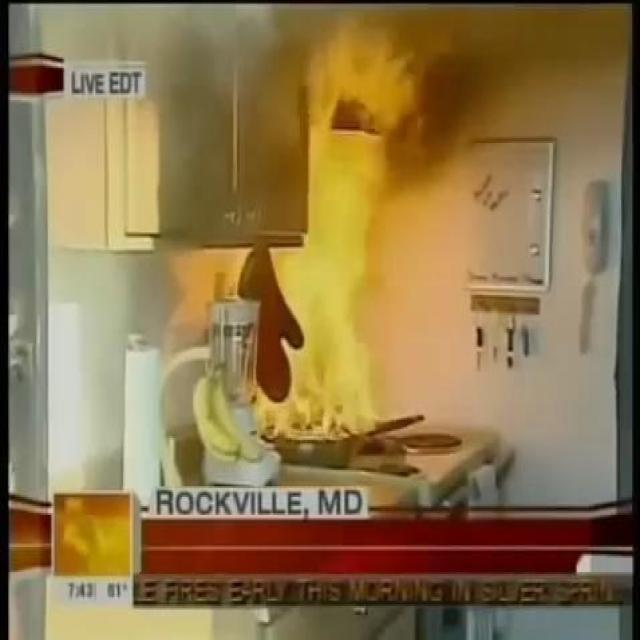fire: (248, 42, 440, 415)
